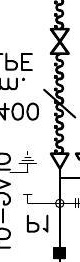22_gs: (9, 151, 39, 197)
terminator_splicing_kits: (49, 28, 70, 56)
